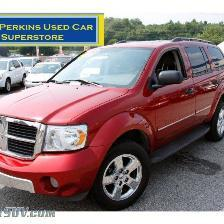scrach: (110, 88, 224, 124)
